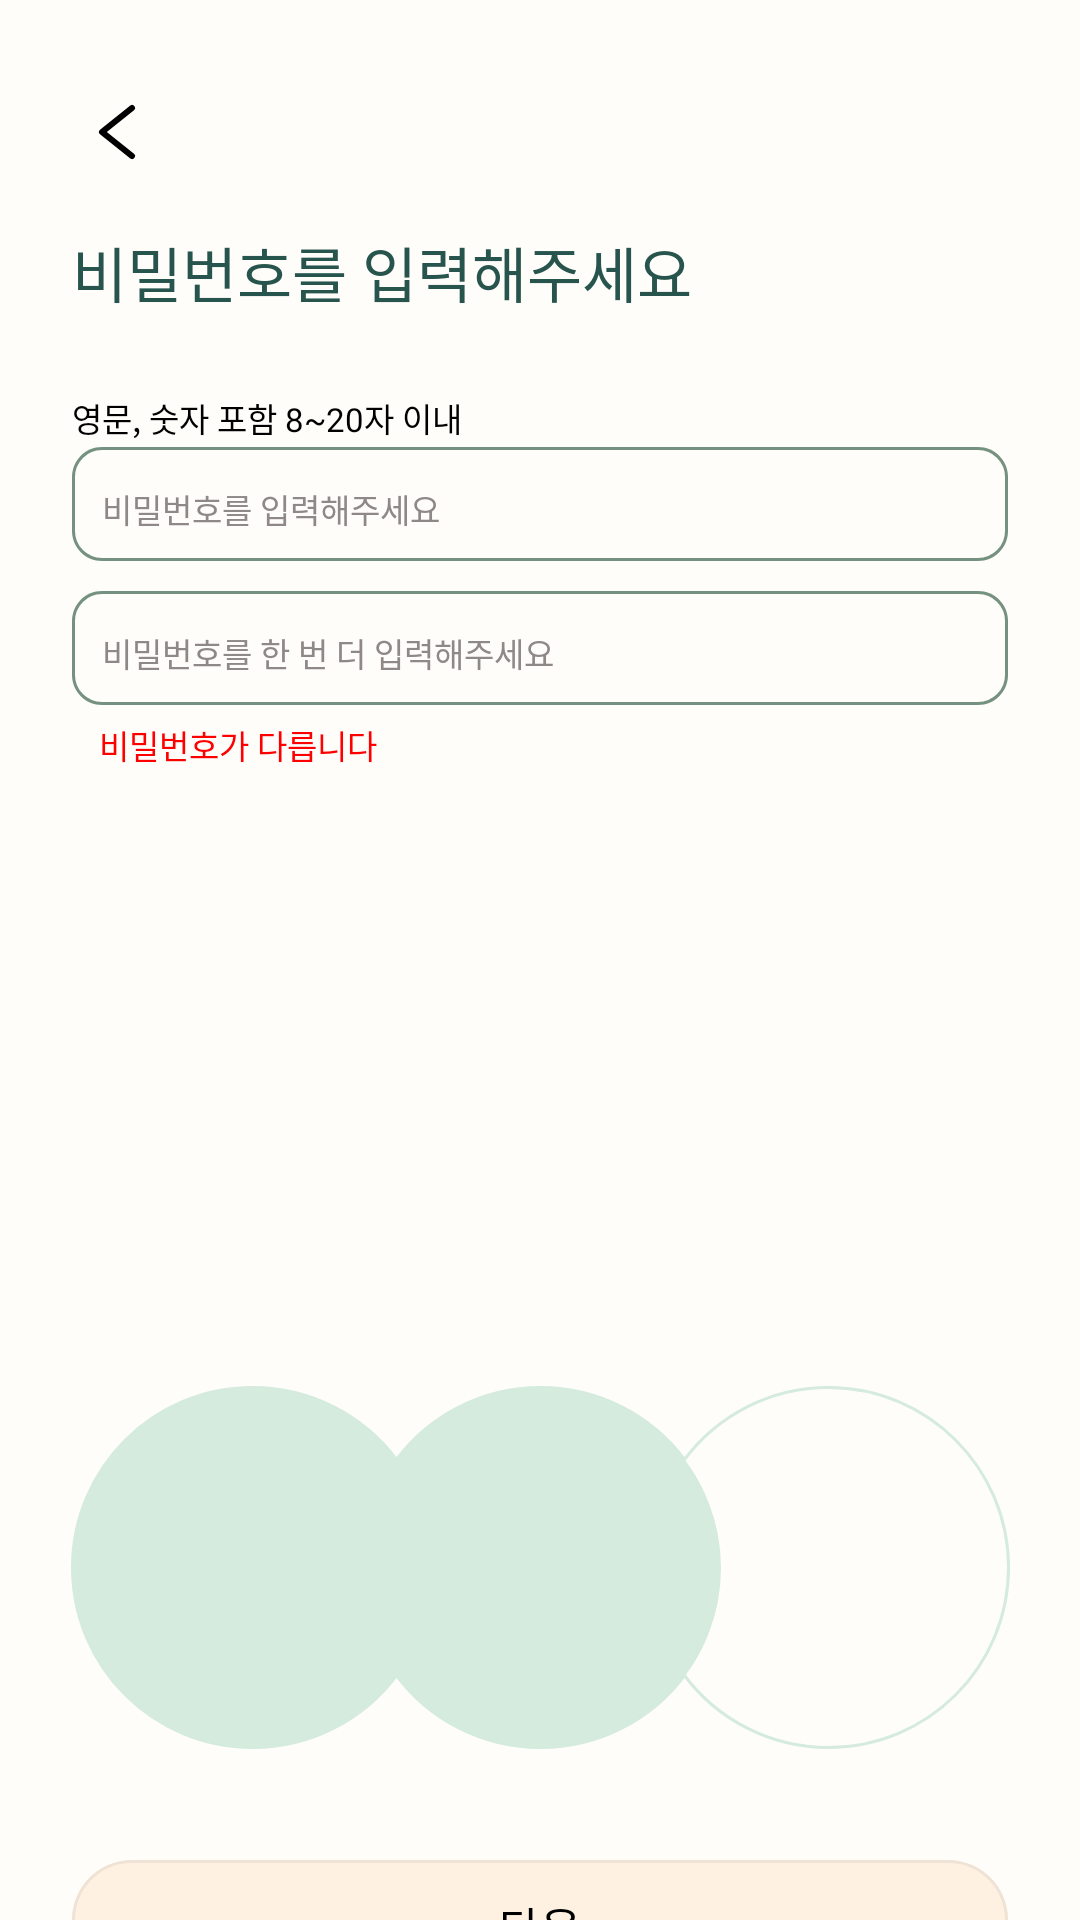

Icons on this 1080px×1920px Android screen, each with the point to tap as point (x, y):
back: point (117, 132)
